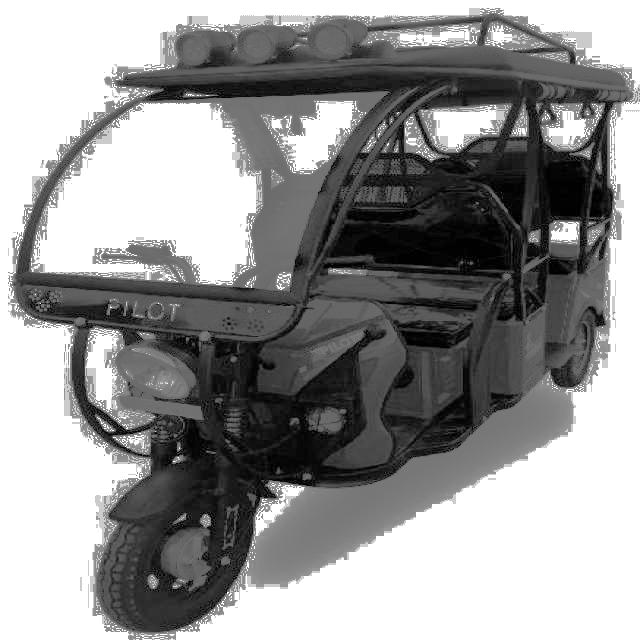Toto: (25, 45, 627, 633)
